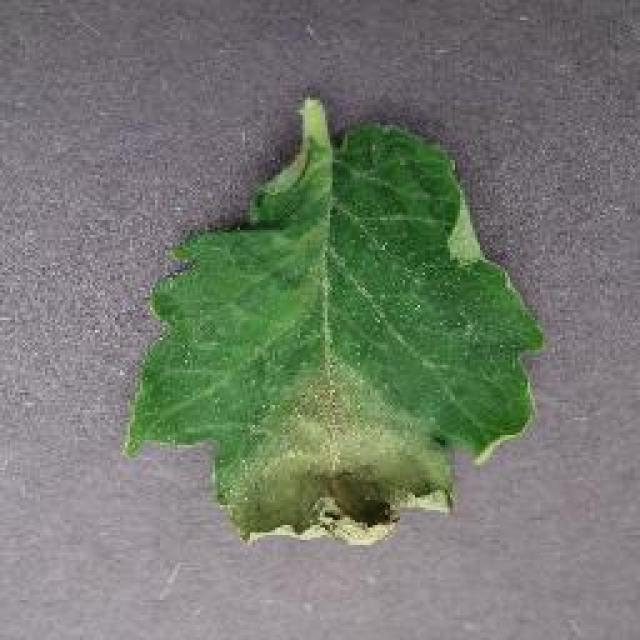Tomato late blight leaf: (120, 115, 544, 552)
